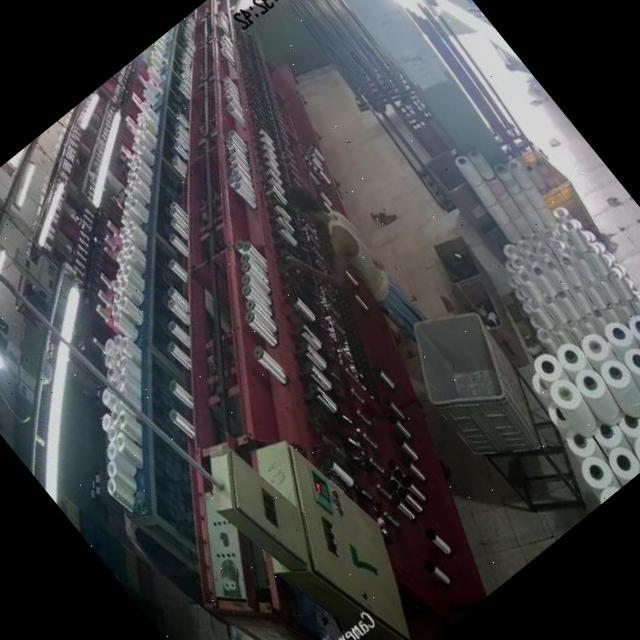person: (279, 172, 399, 313)
